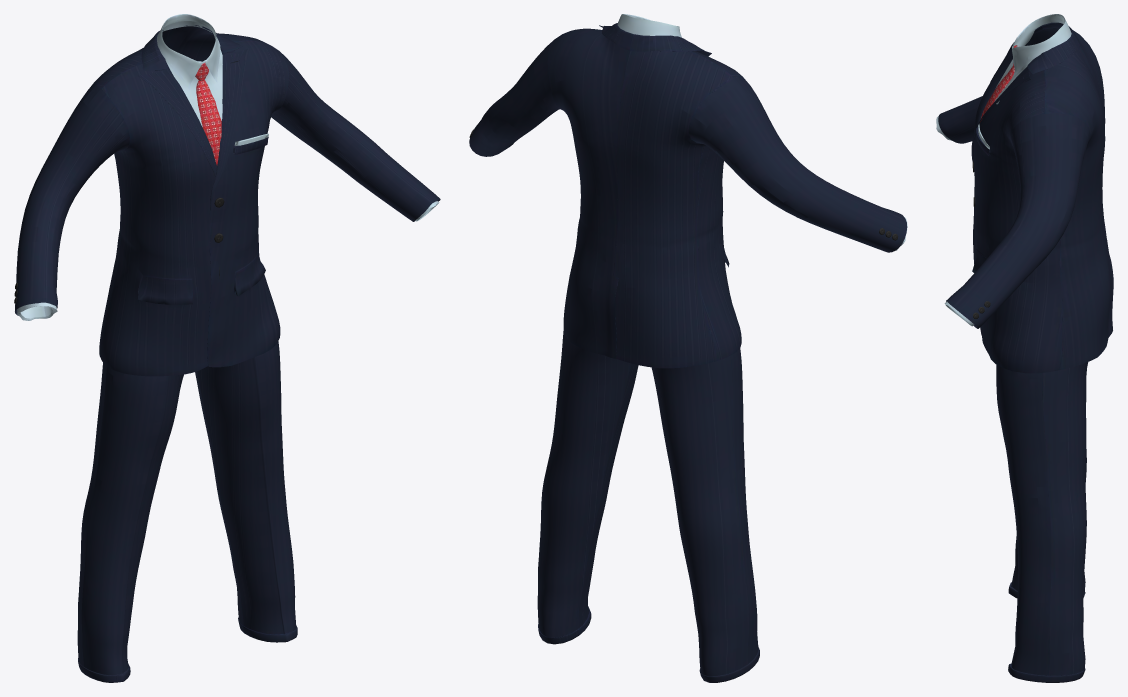
Rendered from toigo-male-suit-3.glb.
The picture shows the model from 3 angles, left to right: view 1: azimuth 30°, elevation 25°; view 2: azimuth 150°, elevation 25°; view 3: azimuth 270°, elevation 25°; orthographic projection. The views are drawn at different scales.
Visible parts, largest first — view 1: male suit 3; view 2: male suit 3; view 3: male suit 3.
Boxes of the visible parts, box(x1,y1,x2,y2) form: male suit 3: box(14, 14, 440, 682); male suit 3: box(469, 14, 907, 682); male suit 3: box(936, 14, 1113, 682).
Bounding box in the file's own units: 105 × 149 × 38.89.
Materials: 1 (1 with a texture image).
